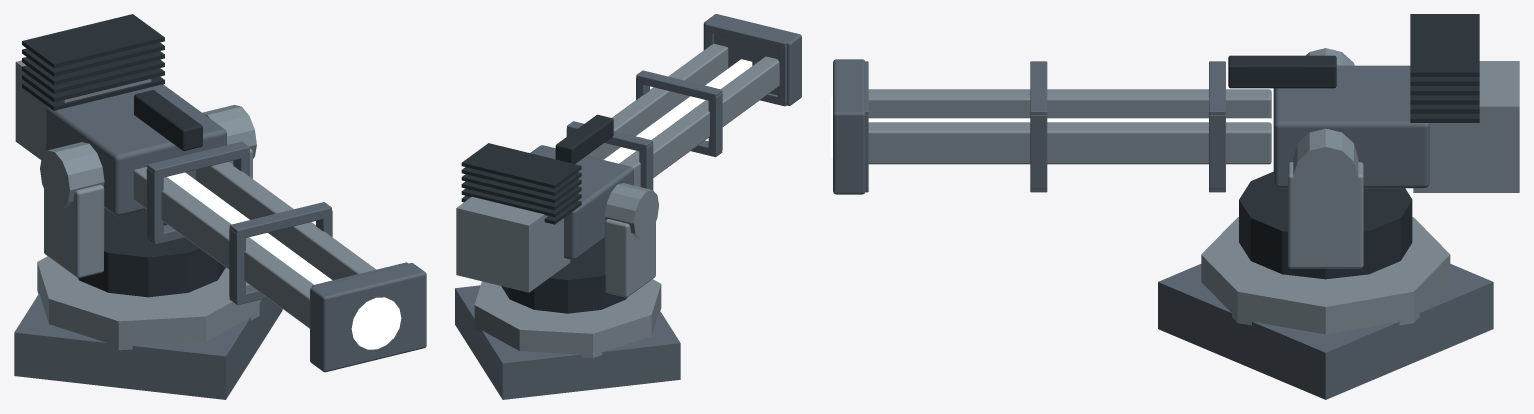
Rendered from lancer_t2_d0.meshopt.glb.
The picture shows the model from 3 angles, left to right: view 1: azimuth 30°, elevation 25°; view 2: azimuth 150°, elevation 25°; view 3: azimuth 270°, elevation 25°; orthographic projection. The views are drawn at different scales.
Parts seen in each view (by area): view 1: RECOIL_ARMOR_GEOMETRY, BASE_ARMOR_GEOMETRY, YAW_ARMOR_GEOMETRY, RECOIL_SIGNAL_GEOMETRY; view 2: RECOIL_ARMOR_GEOMETRY, BASE_ARMOR_GEOMETRY, YAW_ARMOR_GEOMETRY, RECOIL_SIGNAL_GEOMETRY; view 3: RECOIL_ARMOR_GEOMETRY, BASE_ARMOR_GEOMETRY, YAW_ARMOR_GEOMETRY, RECOIL_SIGNAL_GEOMETRY.
Boxes of the visible parts, left/top/right/bottom form: RECOIL_ARMOR_GEOMETRY: left=15, top=14, right=426, bottom=372; BASE_ARMOR_GEOMETRY: left=14, top=256, right=282, bottom=399; YAW_ARMOR_GEOMETRY: left=44, top=148, right=252, bottom=297; RECOIL_SIGNAL_GEOMETRY: left=167, top=172, right=401, bottom=349; RECOIL_ARMOR_GEOMETRY: left=456, top=14, right=801, bottom=292; BASE_ARMOR_GEOMETRY: left=455, top=279, right=680, bottom=399; YAW_ARMOR_GEOMETRY: left=501, top=219, right=655, bottom=313; RECOIL_SIGNAL_GEOMETRY: left=604, top=59, right=752, bottom=163; RECOIL_ARMOR_GEOMETRY: left=833, top=14, right=1519, bottom=205; BASE_ARMOR_GEOMETRY: left=1158, top=217, right=1493, bottom=399; YAW_ARMOR_GEOMETRY: left=1239, top=162, right=1412, bottom=279; RECOIL_SIGNAL_GEOMETRY: left=830, top=96, right=1271, bottom=157.
Bounding box in the file's own units: 1.55 × 1.46 × 3.18.
